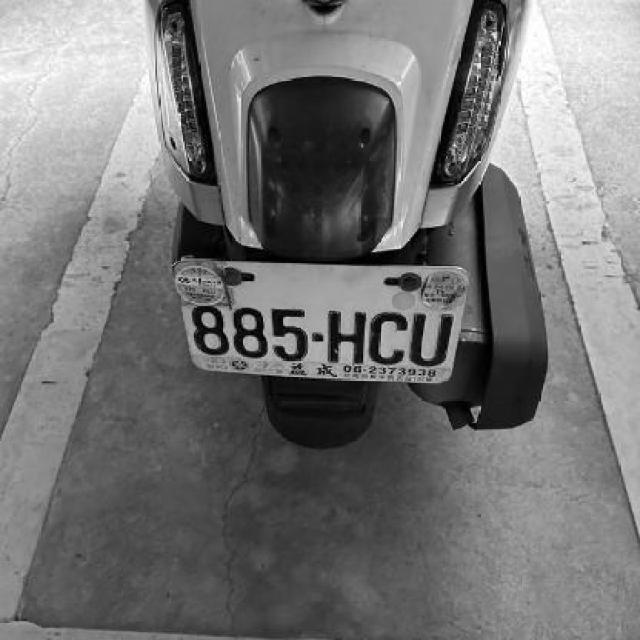-: (309, 328, 322, 342)
5: (266, 303, 311, 366)
8: (232, 303, 268, 363), (190, 302, 228, 358)
C: (368, 308, 408, 368)
H: (326, 304, 366, 368)
U: (411, 310, 454, 368)
